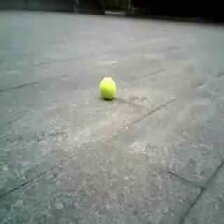tennis: (100, 77, 116, 98)
